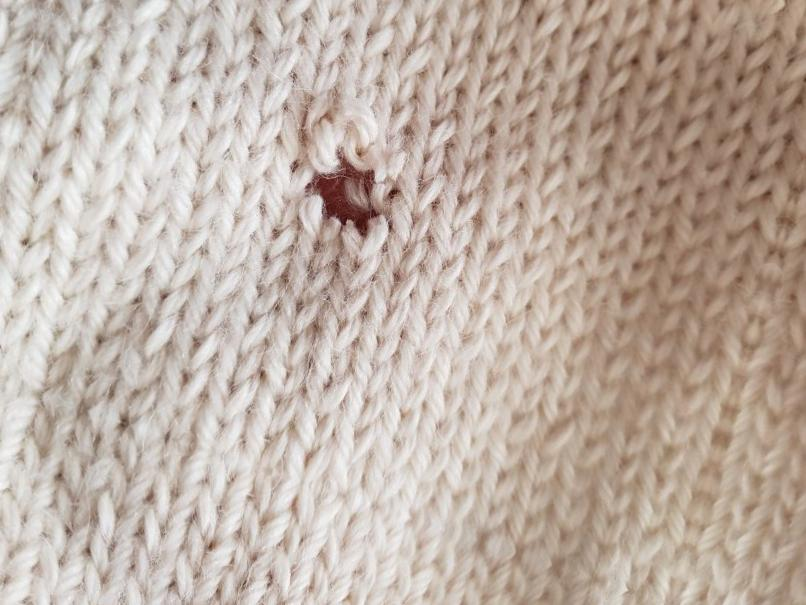hole: (297, 148, 403, 241)
